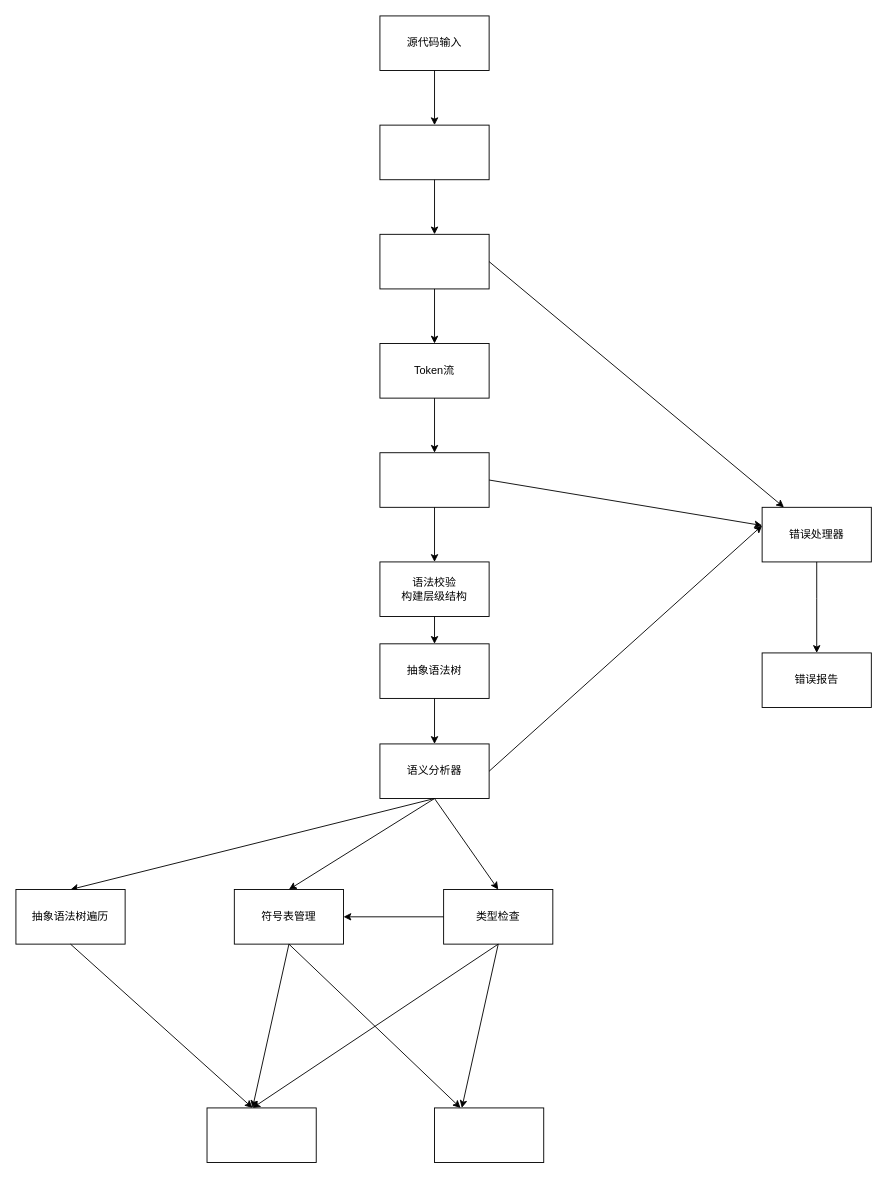
This 887x1178 diagram has some shape labels left out. Here are the shapes that lost their labels. From the top down, the box of each, then its label:
(379, 124, 489, 180): 字符流
(379, 233, 489, 289): 词法分析器
(379, 452, 489, 507): 语法分析器
(206, 1107, 316, 1163): 带信息的抽象语法树
(434, 1107, 544, 1163): 符号表
